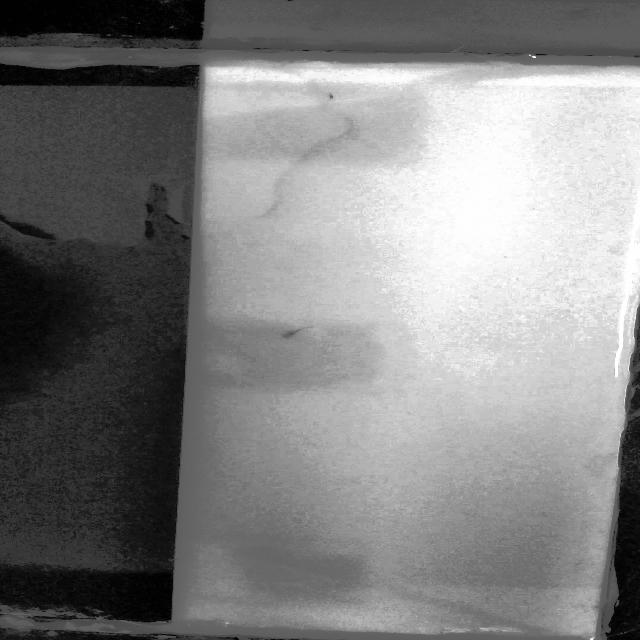shrimp: (279, 324, 316, 339), (319, 88, 342, 105)
